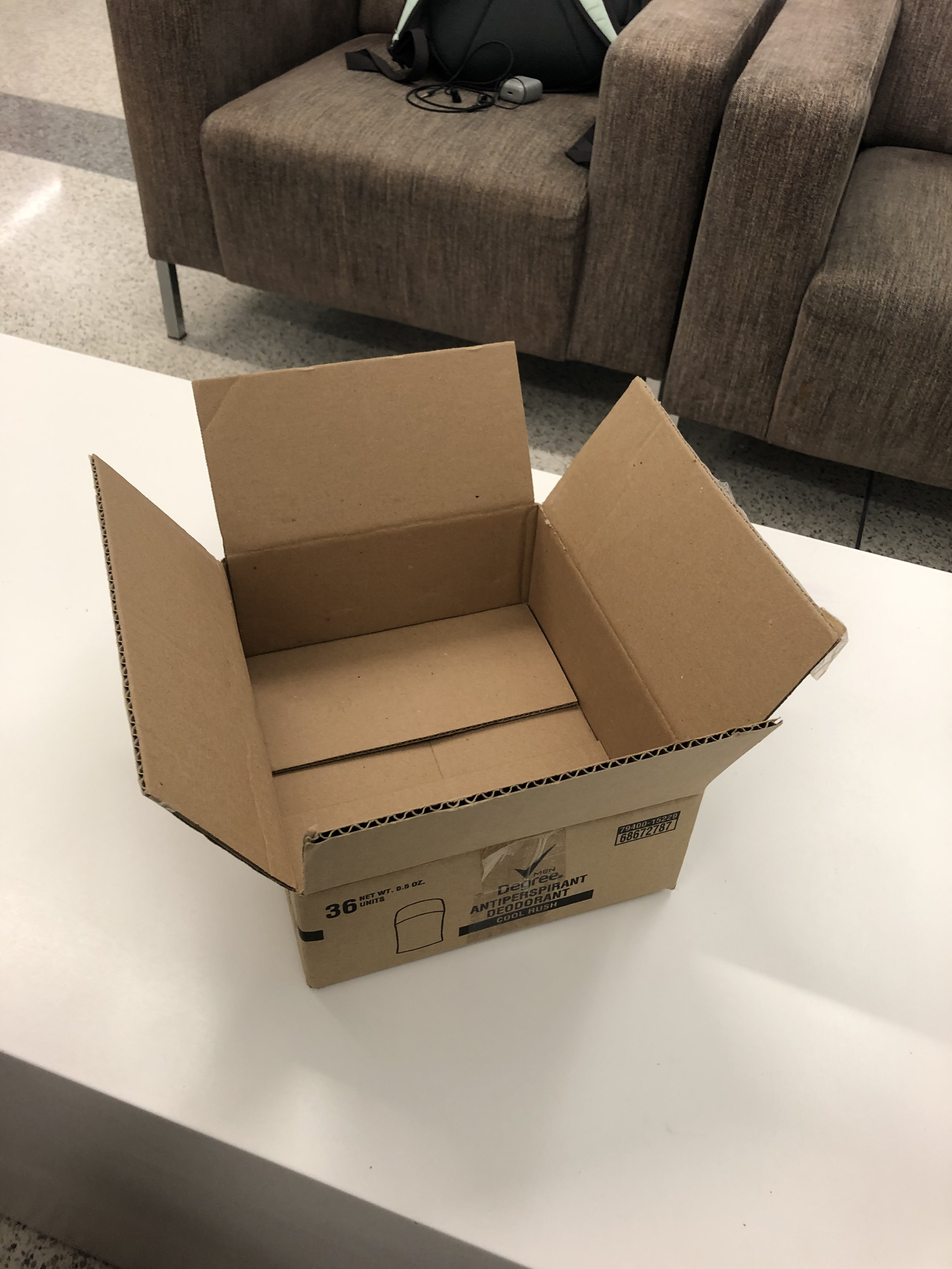box: (85, 338, 849, 992)
crushed: (84, 335, 850, 904)
